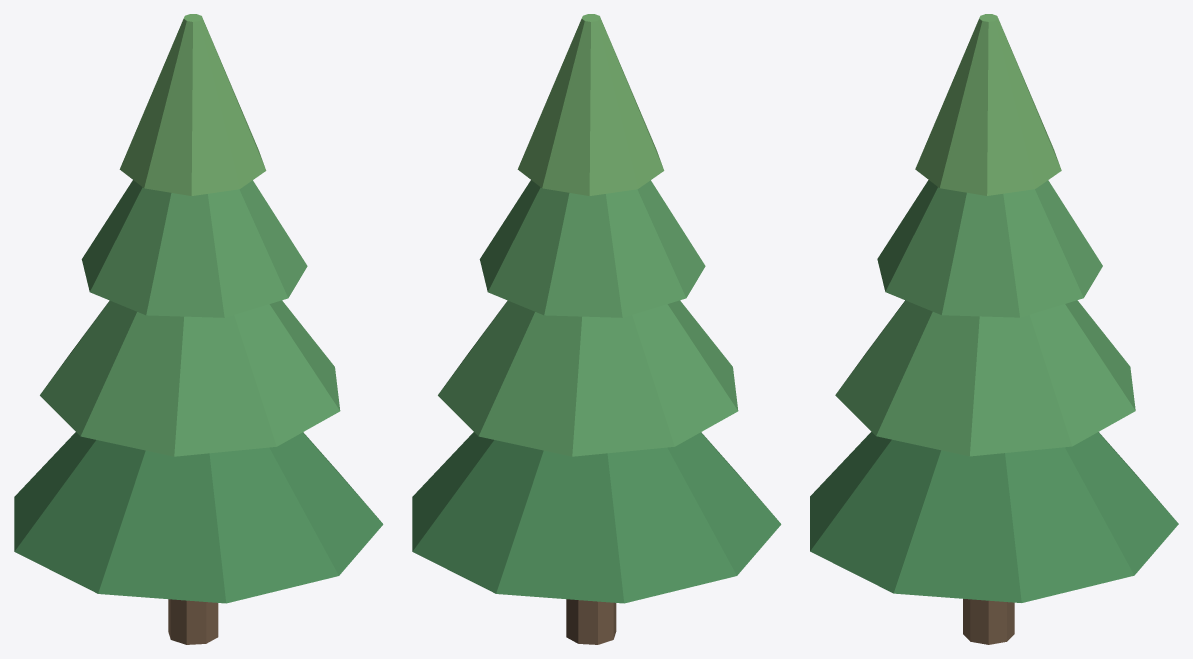
The model's file is pine-tree.glb.
The picture shows the model from 3 angles, left to right: view 1: azimuth 30°, elevation 25°; view 2: azimuth 150°, elevation 25°; view 3: azimuth 270°, elevation 25°; orthographic projection.
Visible parts, largest first — view 1: Foliage_0, Foliage_1, Foliage_2, Foliage_3, Trunk; view 2: Foliage_0, Foliage_1, Foliage_2, Foliage_3, Trunk; view 3: Foliage_0, Foliage_1, Foliage_2, Foliage_3, Trunk.
Part boxes in pixels (<box>): Foliage_0: <box>14,432,383,603</box>; Foliage_1: <box>40,300,340,456</box>; Foliage_2: <box>81,180,307,317</box>; Foliage_3: <box>119,14,266,195</box>; Trunk: <box>168,599,218,644</box>; Foliage_0: <box>412,432,781,603</box>; Foliage_1: <box>438,300,738,456</box>; Foliage_2: <box>479,180,705,317</box>; Foliage_3: <box>517,14,664,195</box>; Trunk: <box>566,599,616,644</box>; Foliage_0: <box>810,432,1178,602</box>; Foliage_1: <box>835,300,1135,456</box>; Foliage_2: <box>877,180,1102,317</box>; Foliage_3: <box>915,14,1061,195</box>; Trunk: <box>963,599,1014,644</box>.
Size of the model in its own units: 4.63 by 8.4 by 4.56.
